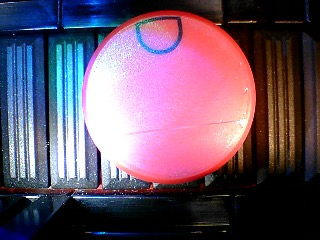MIPO1: (81, 9, 257, 184)
